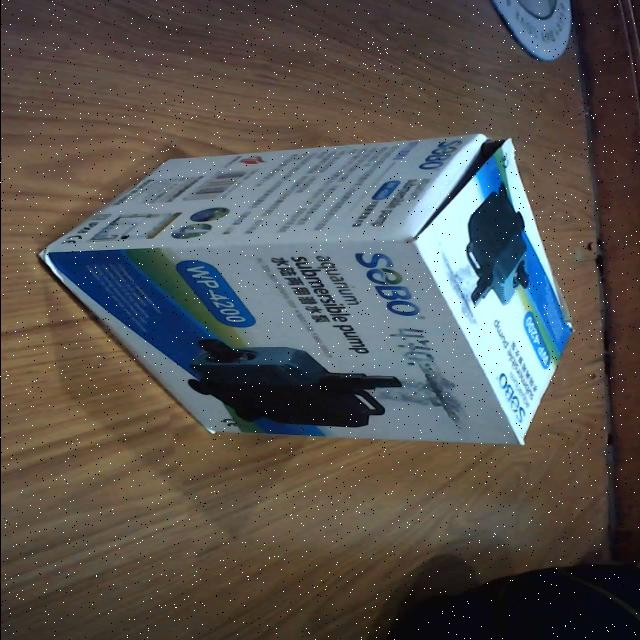SOBO_WP_4200: (31, 128, 590, 455)
